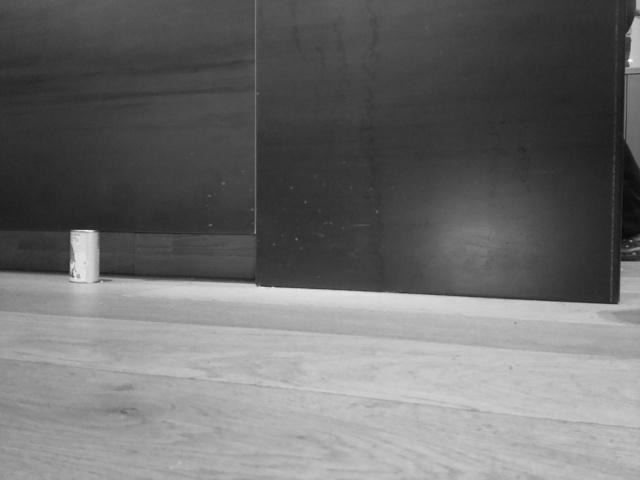gnome: (68, 241, 82, 281)
